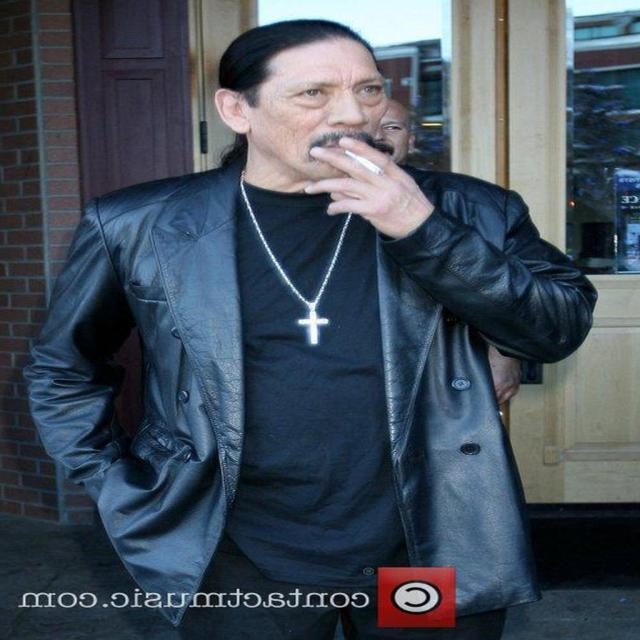smoking: (225, 22, 437, 246)
